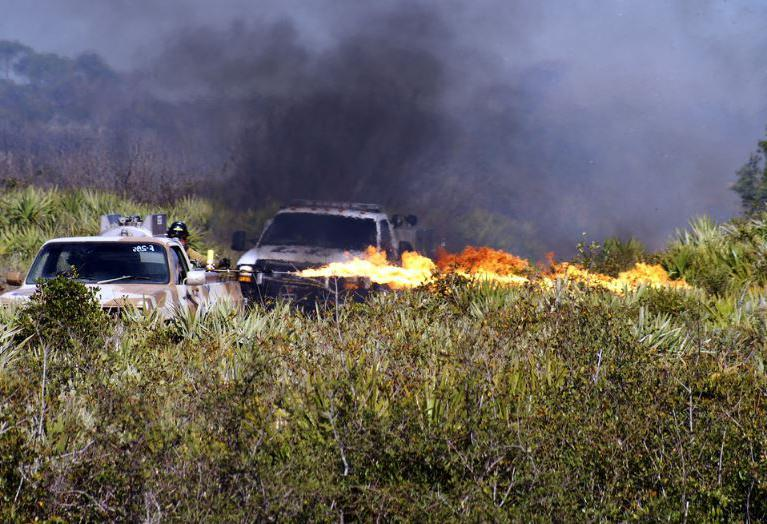Fire: (285, 249, 693, 303)
